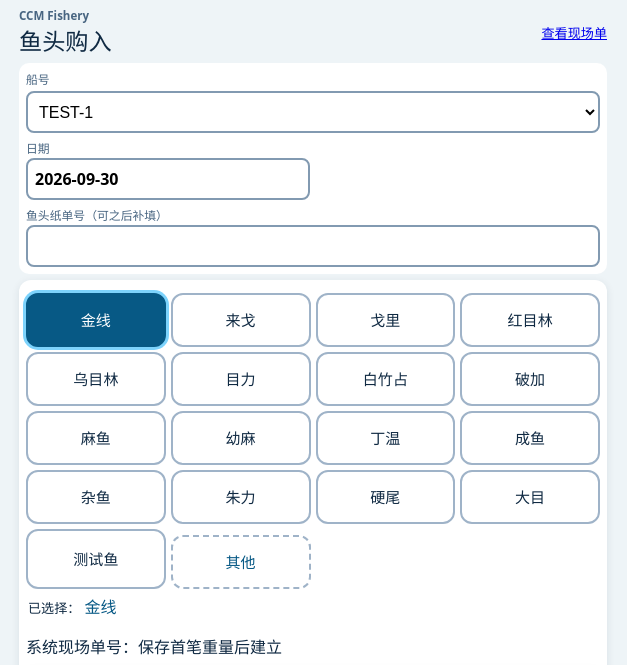
Test: 鱼头采购输入与保存准备状态 › 有缓存时在远端 3 秒返回前载入自定义船鱼及 lastVesselId，并能输入重量
Expected: the dropdown labelled "船号" shows "TEST-1", [26,91,600,133]
What coordinates should you click on to do the following:
click the button "测试鱼"
I would click on:
 (96, 559)
Its box is [26,529,166,589].
(page scrolled)
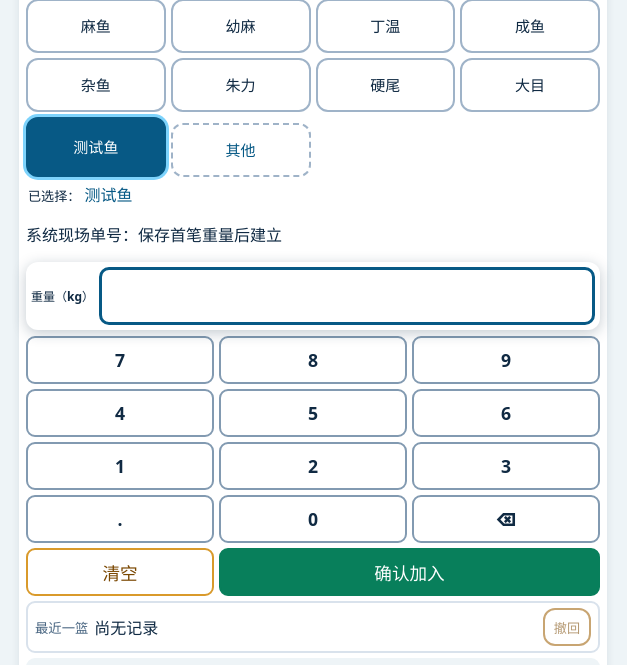
What coordinates should you click on to do the following:
click the button "8"
I would click on:
 (313, 360)
Its box is [219,336,407,384].
Wait 3000 ms
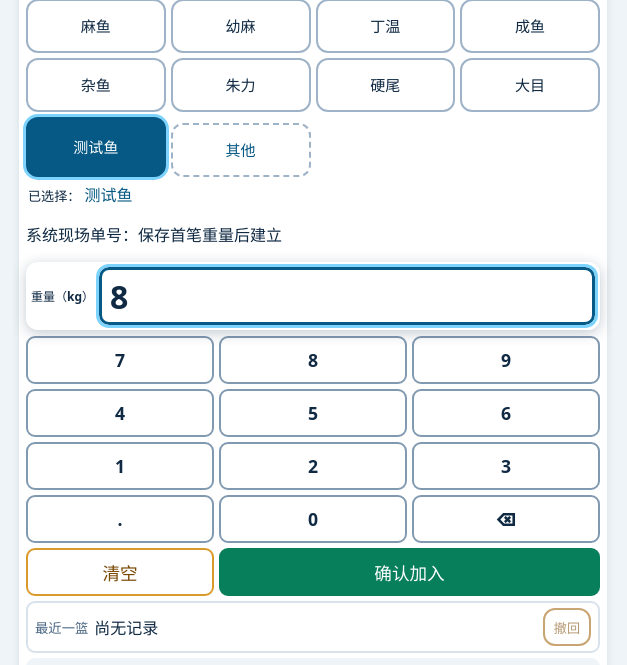
Expected: the field labelled "重量（kg）" holds "8", [99,267,595,325]
